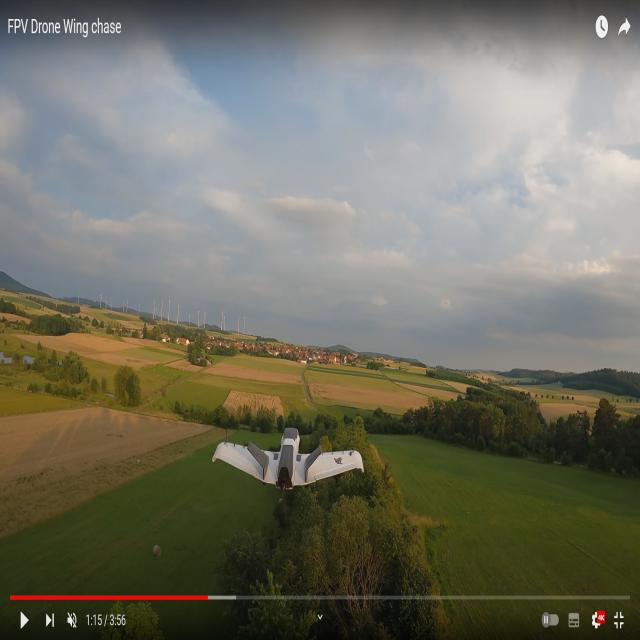iha: (211, 425, 365, 480)
